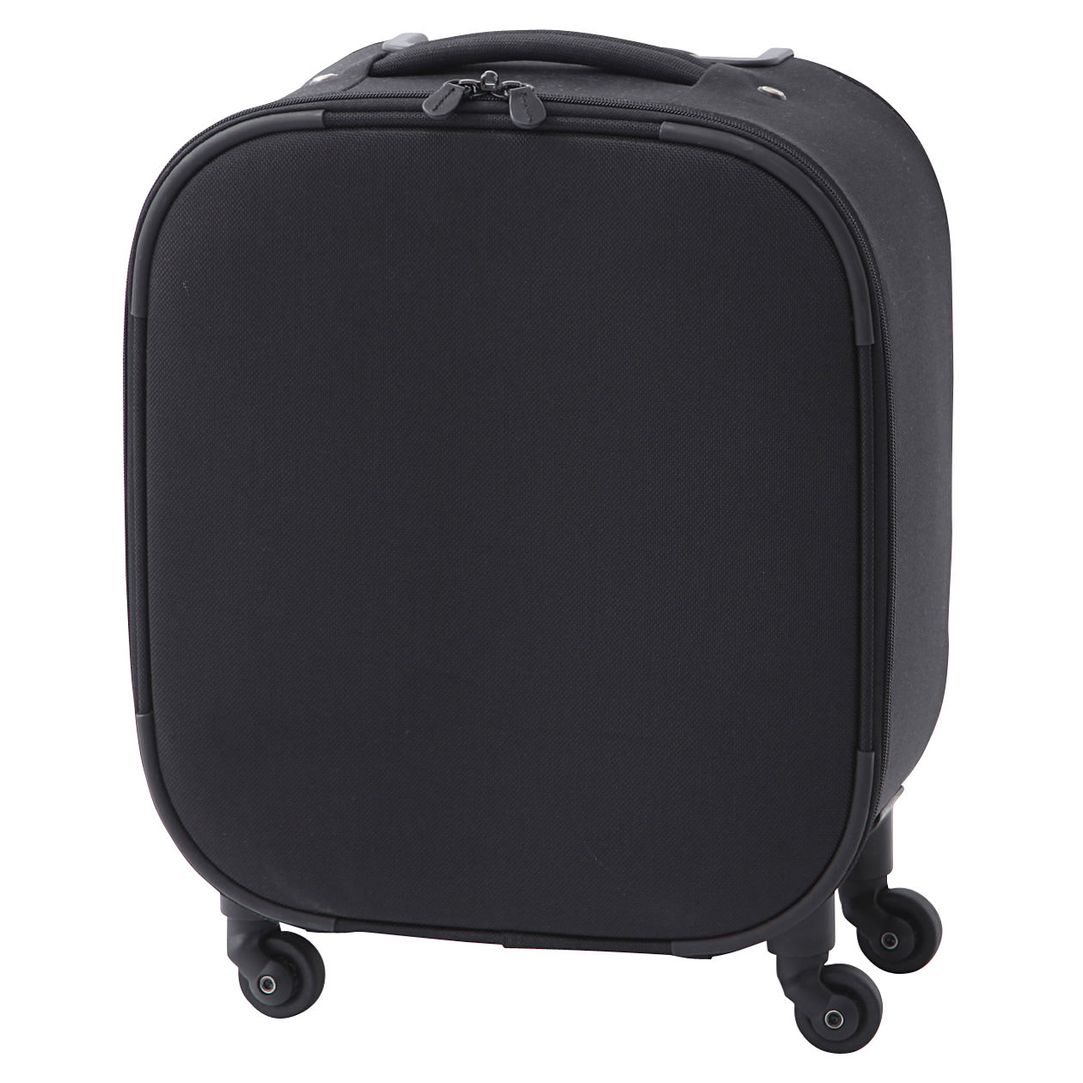box: (126, 51, 953, 957)
handle: (367, 28, 706, 86)
wheel: (792, 957, 882, 1055), (239, 931, 326, 1019), (858, 888, 942, 974)
